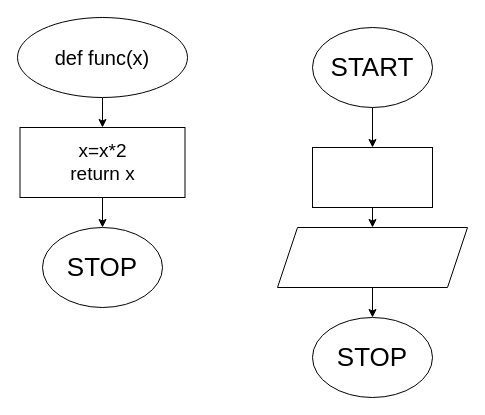
The diagram is 485 pixels wide and 415 high, and some of its shapes have lost their labels. Each missing label, with the centre of its shape:
"print(x,func(x))" belongs at (x=372, y=257).
"x=8" belongs at (x=372, y=177).
